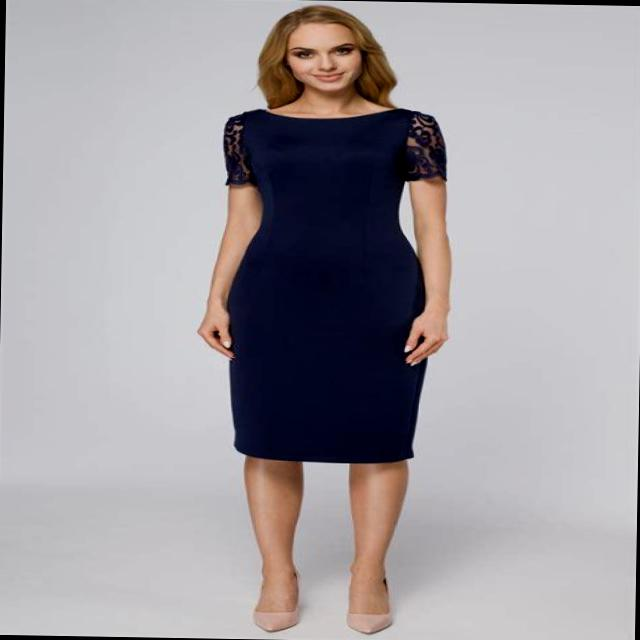dress: (217, 104, 451, 464)
